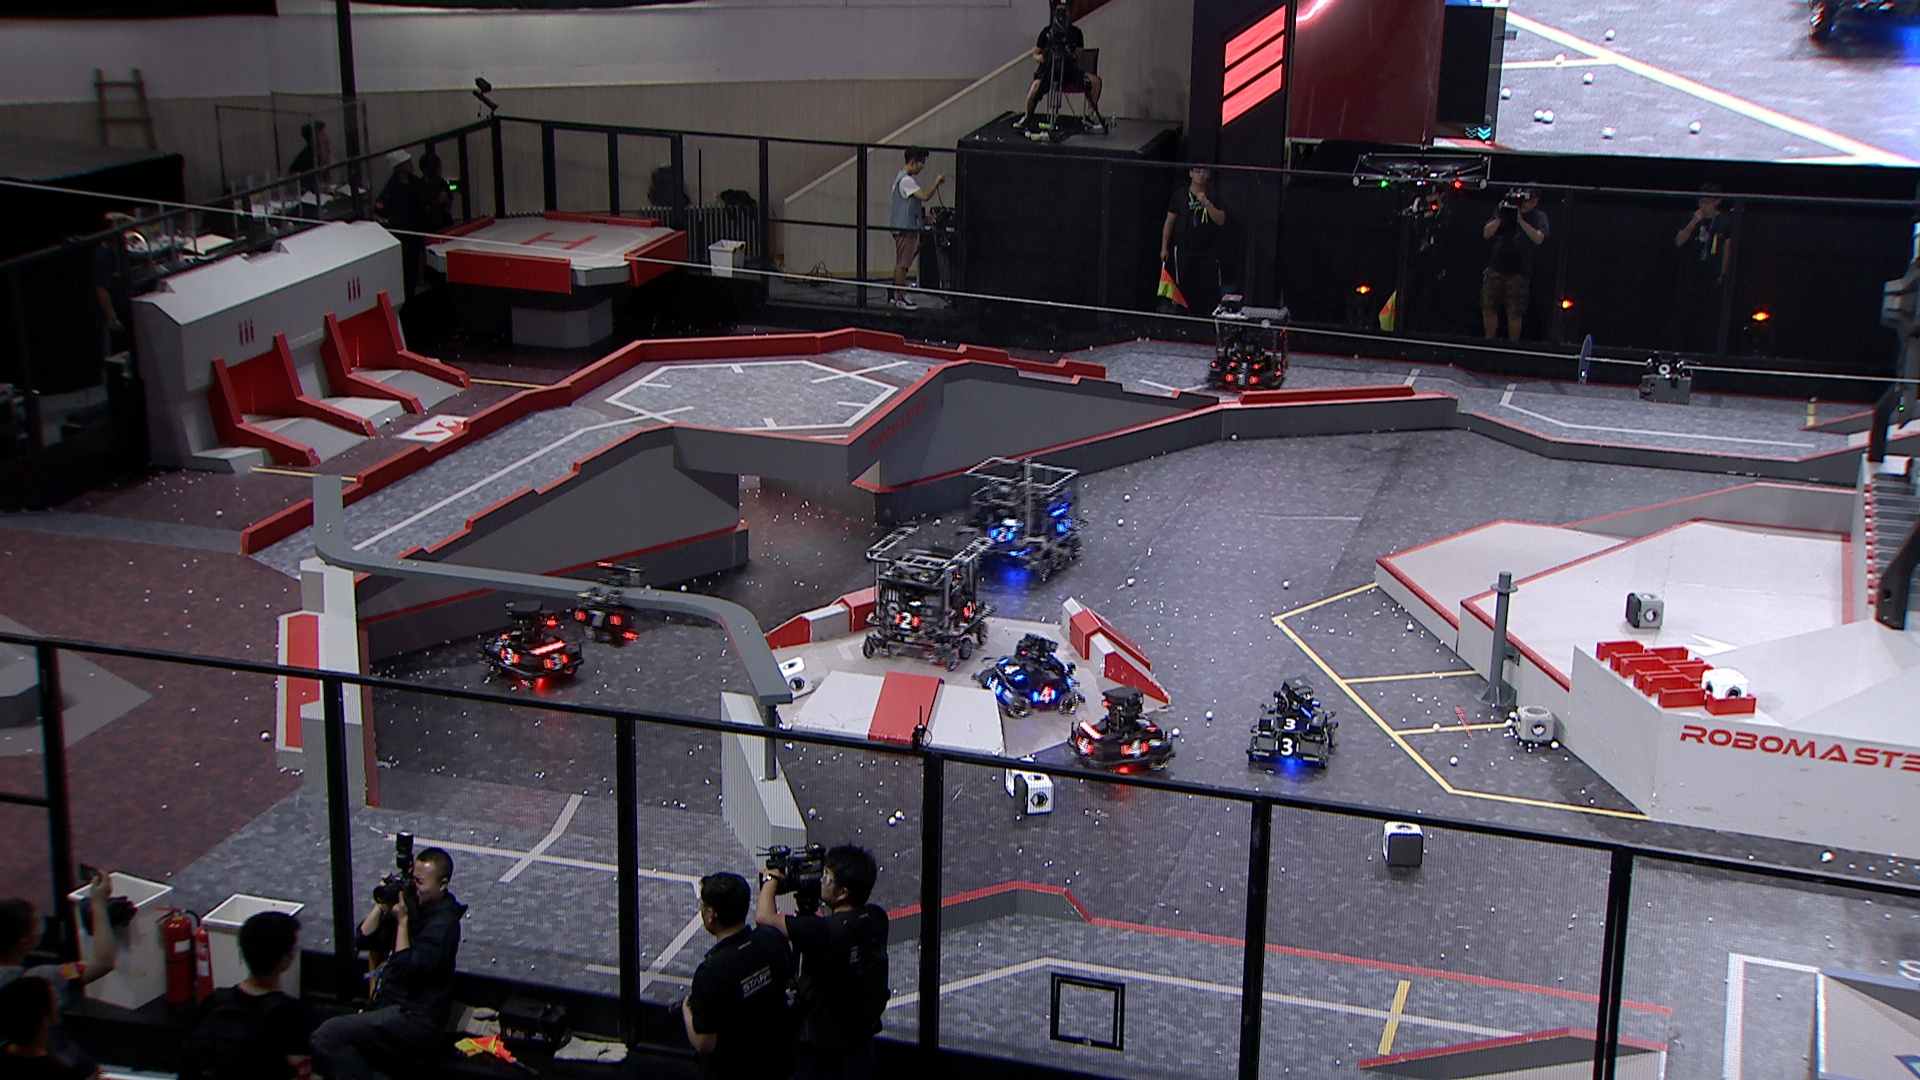armor: (572, 607, 622, 632), (998, 657, 1025, 684), (1271, 717, 1313, 733), (1030, 684, 1059, 705), (1273, 735, 1302, 756), (894, 611, 922, 632), (543, 651, 571, 671), (1224, 372, 1261, 386), (1120, 740, 1150, 757), (1228, 357, 1261, 372), (1076, 737, 1097, 760), (992, 526, 1015, 546), (986, 675, 1005, 698), (961, 599, 981, 618), (498, 647, 520, 666), (1138, 716, 1158, 735), (1321, 725, 1335, 749), (1058, 517, 1073, 537), (1275, 361, 1286, 378)
car: (860, 522, 996, 670), (964, 454, 1083, 580), (479, 597, 589, 690), (971, 628, 1083, 719), (1068, 684, 1178, 775), (1245, 676, 1340, 773), (1211, 289, 1292, 398)
ignore: (1807, 0, 1917, 47)
watcher: (570, 559, 644, 647)
